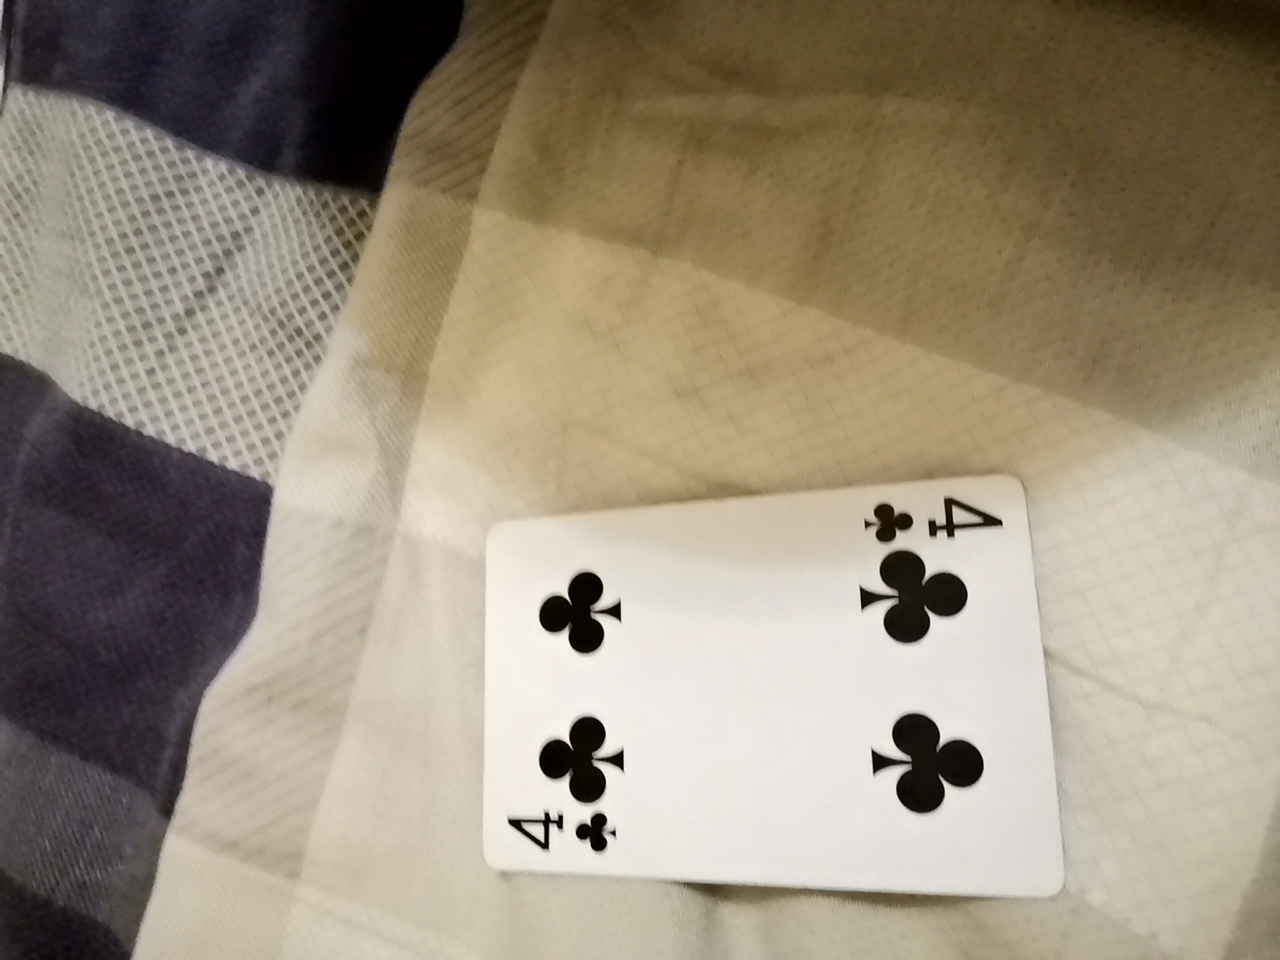mh 4: (487, 489, 1079, 899)
